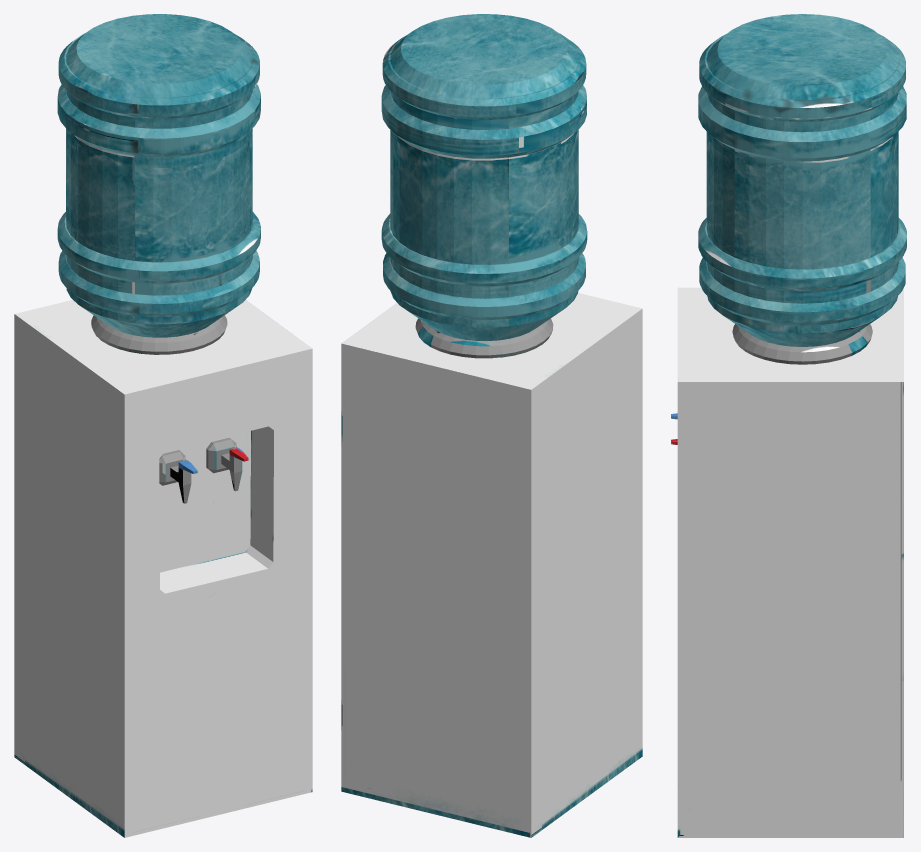
File: woda1.glb
The picture shows the model from 3 angles, left to right: view 1: azimuth 30°, elevation 25°; view 2: azimuth 150°, elevation 25°; view 3: azimuth 270°, elevation 25°; orthographic projection. The views are drawn at different scales.
Parts seen in each view (by area): view 1: Cube.056; view 2: Cube.056; view 3: Cube.056.
Part boxes in pixels (x1,y1,x2,y2): Cube.056: (14, 14, 312, 837); Cube.056: (341, 14, 642, 837); Cube.056: (671, 14, 906, 837).
Bounding box in the file's own units: 1.06 × 3.88 × 1.12.
Materials: 1 (1 with a texture image).
